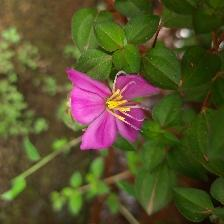malabar melastome: (63, 66, 163, 154)
